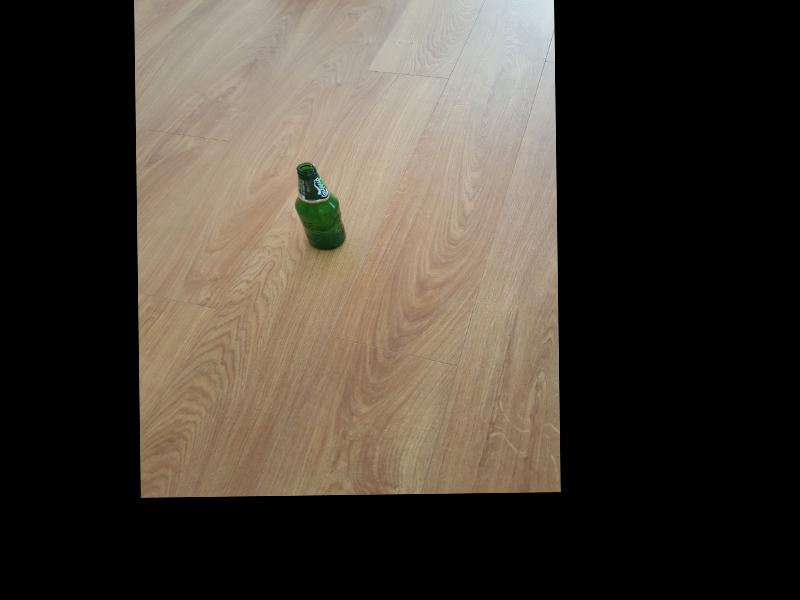Beer: (294, 161, 346, 251)
